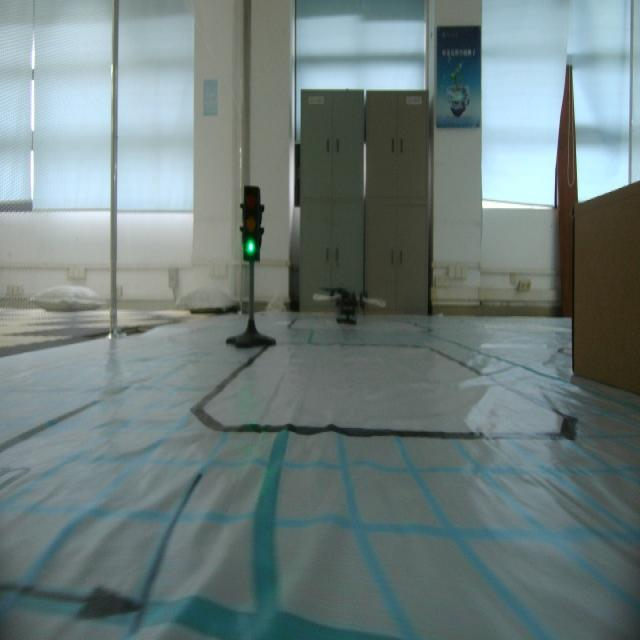green: (238, 179, 264, 265)
